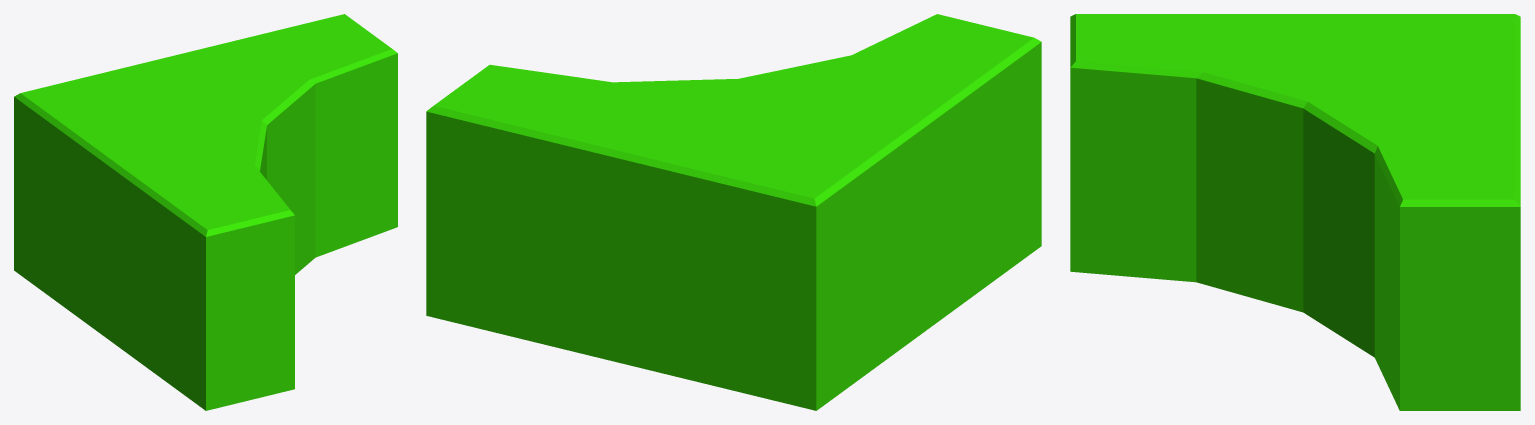
Rendered from round_4x2_03.fbx.
3 renders of one model, left to right at view 1: azimuth 30°, elevation 25°; view 2: azimuth 150°, elevation 25°; view 3: azimuth 270°, elevation 25°, orthographic. The views are drawn at different scales.
Visible parts, largest first — view 1: round_4x2_03; view 2: round_4x2_03; view 3: round_4x2_03.
Part boxes in pixels (left/top/right/bottom): round_4x2_03: left=14, top=14, right=397, bottom=410; round_4x2_03: left=426, top=14, right=1041, bottom=410; round_4x2_03: left=1070, top=14, right=1520, bottom=410.
Bounding box in the file's own units: 410 × 210 × 410.
